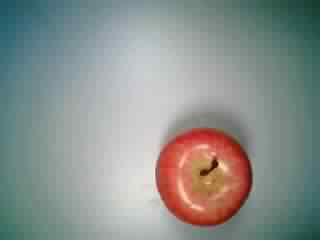apple: (151, 127, 255, 228)
